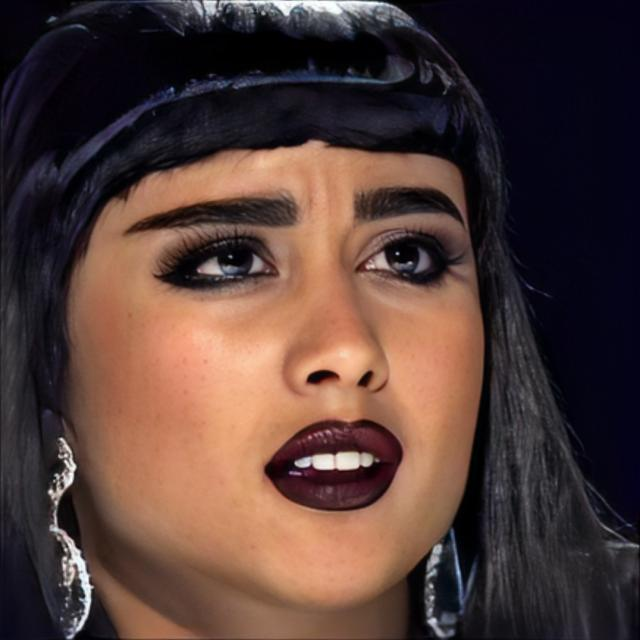neutral: (62, 134, 492, 610)
